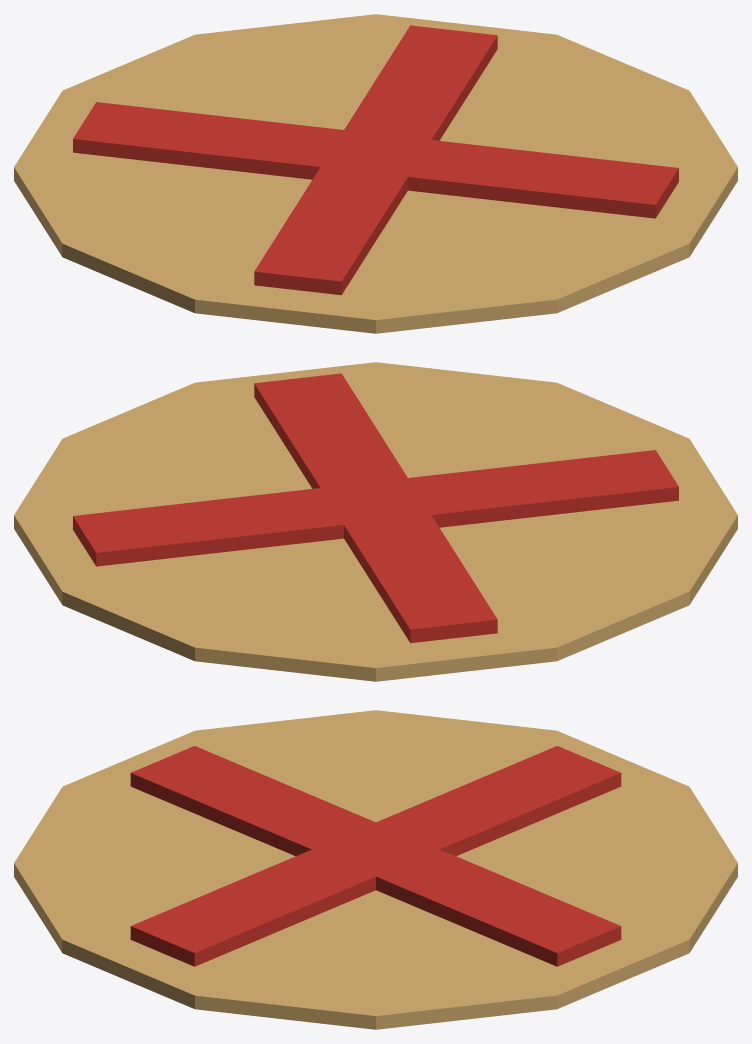
File: env_r13_treasure_x.glb
3 renders of one model, top to bottom at view 1: azimuth 30°, elevation 25°; view 2: azimuth 150°, elevation 25°; view 3: azimuth 270°, elevation 25°, orthographic.
Parts seen in each view (by area): view 1: env_r13_treasure_x; view 2: env_r13_treasure_x; view 3: env_r13_treasure_x.
Part boxes in pixels (x1,y1,x2,y2): env_r13_treasure_x: [14, 14, 737, 333]; env_r13_treasure_x: [14, 362, 737, 681]; env_r13_treasure_x: [14, 710, 737, 1029].
Bounding box in the file's own units: 2.4 × 0.1 × 2.4.
1 material, 1 textured.
